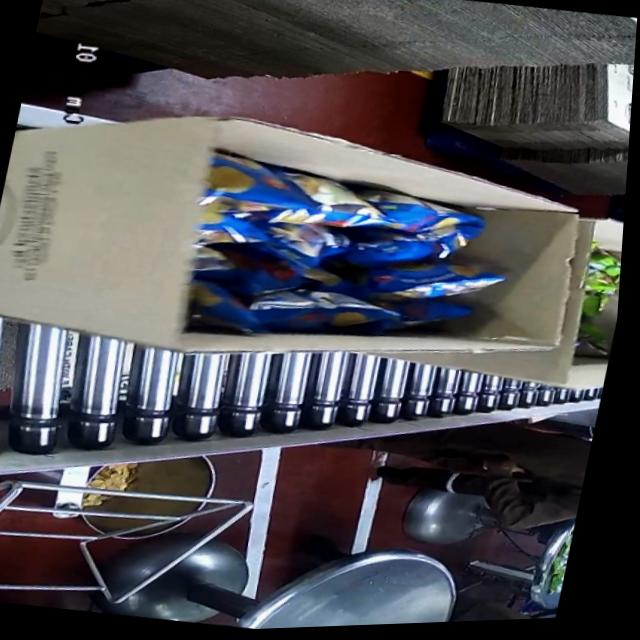PAPRIKA: (166, 138, 512, 360)
